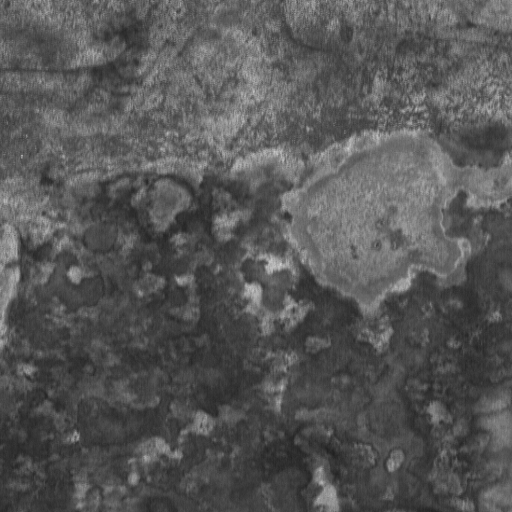aokeng: (281, 126, 471, 311)
